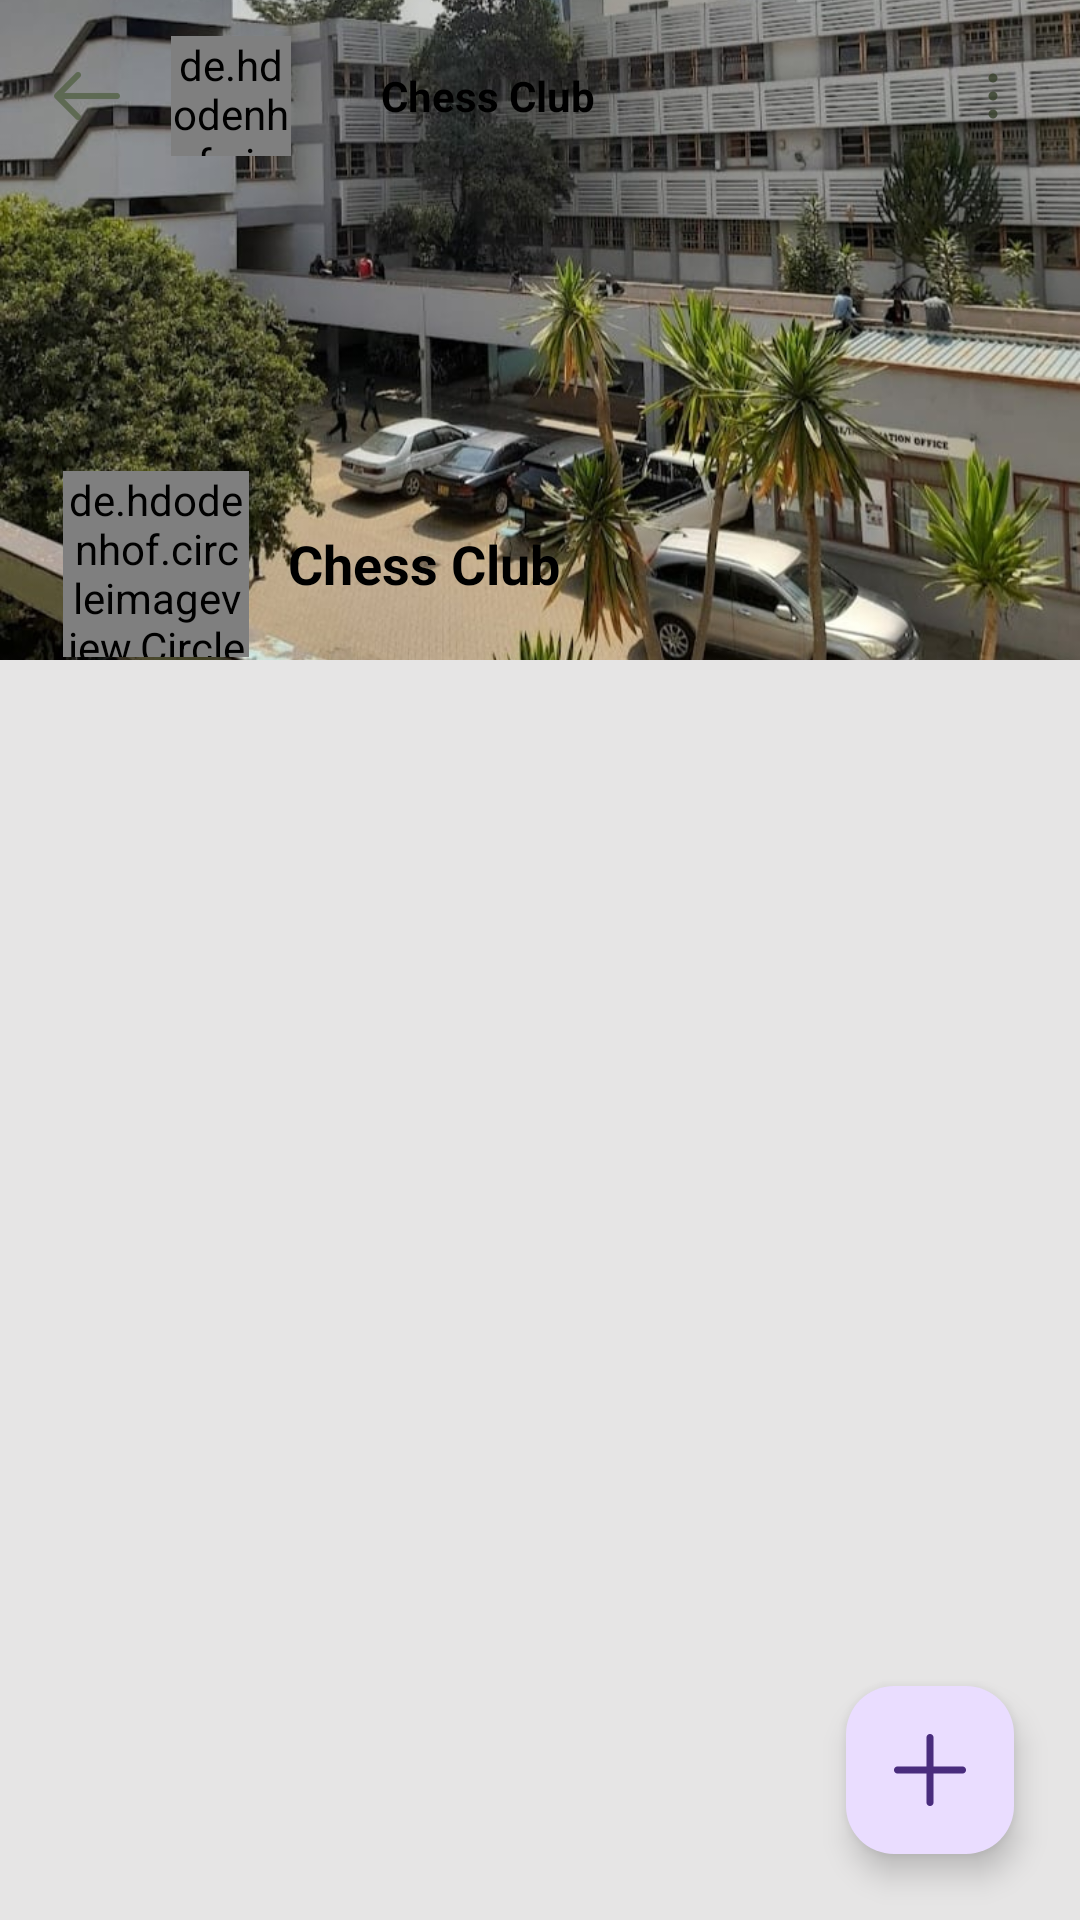

Icons on this 1080 x 1920 Android screen, each with the point to tap as (x,y):
Add post: (930,1770)
back arrow: (87,96)
